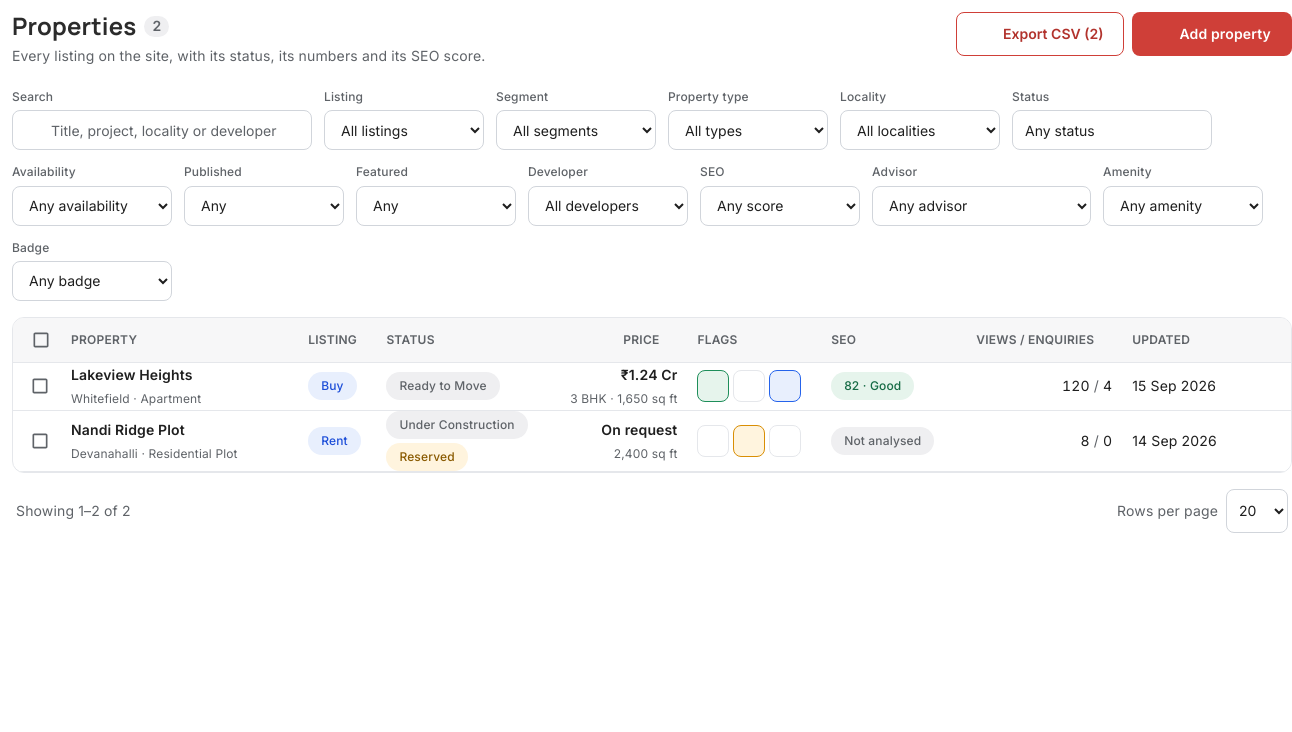
Scenario: PropertiesListPage › the flag toggles › put the old value back when the API refuses
Expected: the link "Lakeview Heights" is shown, [71,366,192,383]
Click the button named "Active — Lakeview Heights".
click(714, 386)  # box [698,370,730,402]
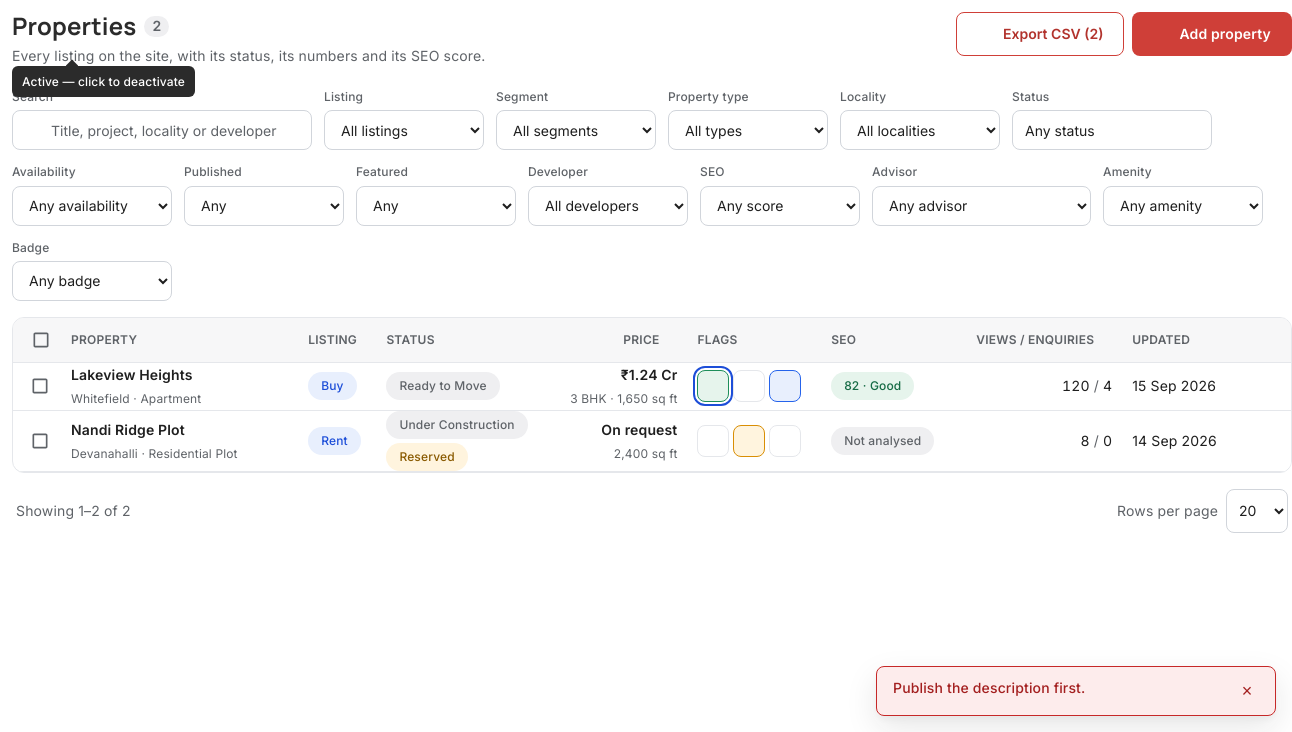
Result: the text "Publish the description first." is shown at [893,679,1085,696]
